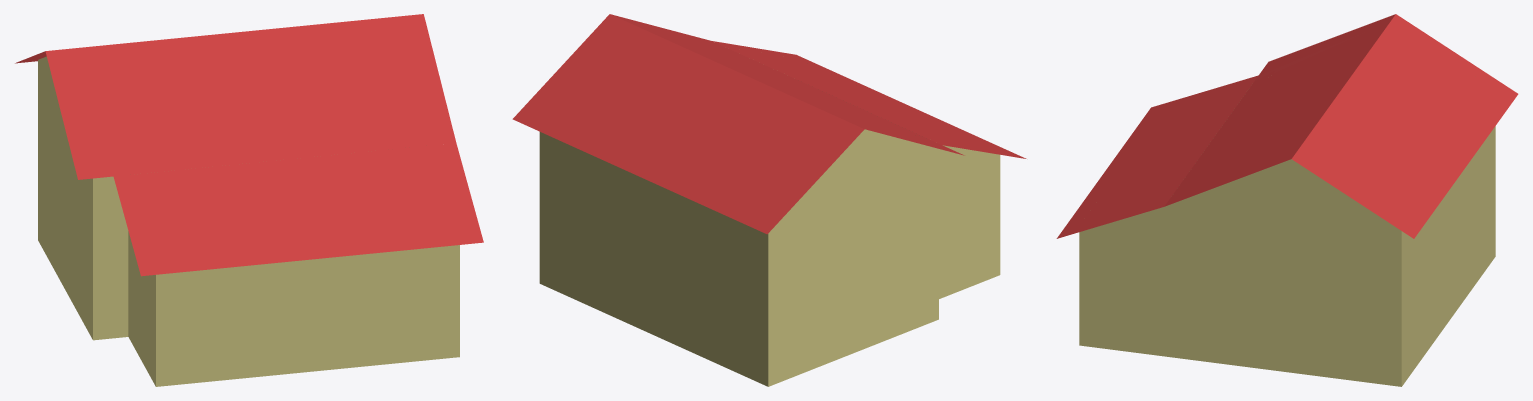
3 renders of one model, left to right at view 1: azimuth 30°, elevation 25°; view 2: azimuth 150°, elevation 25°; view 3: azimuth 270°, elevation 25°, orthographic. The views are drawn at different scales.
Size of the model in its own units: 17.05 by 18.76 by 9.93.
